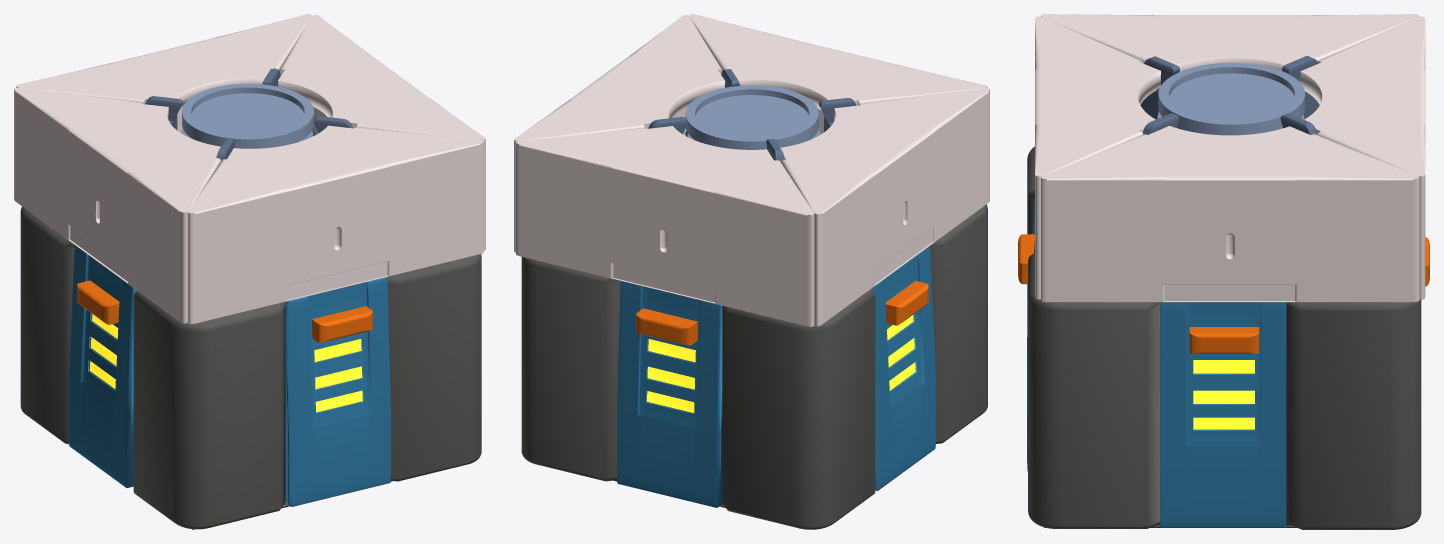
3 renders of one model, left to right at view 1: azimuth 30°, elevation 25°; view 2: azimuth 150°, elevation 25°; view 3: azimuth 270°, elevation 25°, orthographic. The views are drawn at different scales.
Parts seen in each view (by area): view 1: Lootbox_bottom, Cap3, Cap4, Lootbox_panel, Lootbox_panel.001, Cap1, Cap2, Cylinder.001, Lever1, Lever4; view 2: Lootbox_bottom, Cap2, Cap4, Lootbox_panel.003, Cap1, Cap3, Lootbox_panel.001, Cylinder.001, Lever3, Lever4; view 3: Lootbox_bottom, Cap1, Lootbox_panel.002, Cap2, Cap3, Cap4, Cylinder.001, Lever2, Cube.009, Cube.012, Lever1.
Boxes of the visible parts, x1,y1,x2,y2 form: Lootbox_bottom: (20, 206, 481, 529); Cap3: (188, 125, 483, 324); Cap4: (14, 87, 221, 323); Lootbox_panel: (285, 277, 390, 506); Lootbox_panel.001: (69, 245, 136, 487); Cap1: (278, 14, 485, 250); Cap2: (16, 14, 311, 132); Cylinder.001: (182, 83, 313, 148); Lever1: (312, 306, 372, 342); Lever4: (77, 280, 119, 324); Lootbox_bottom: (521, 204, 987, 529); Cap2: (516, 126, 814, 326); Cap4: (780, 88, 989, 326); Lootbox_panel.003: (617, 281, 722, 507); Cap1: (514, 14, 725, 252); Cap3: (689, 14, 987, 134); Lootbox_panel.001: (872, 246, 935, 490); Cylinder.001: (685, 85, 818, 149); Lever3: (636, 308, 697, 345); Lever4: (885, 281, 928, 325); Lootbox_bottom: (1027, 146, 1421, 529); Cap1: (1041, 125, 1419, 302); Lootbox_panel.002: (1160, 302, 1286, 527); Cap2: (1300, 16, 1425, 299); Cap3: (1035, 16, 1160, 299); Cap4: (1041, 14, 1419, 71); Cylinder.001: (1158, 62, 1305, 135); Lever2: (1189, 327, 1259, 353); Cube.009: (1140, 56, 1179, 119); Cube.012: (1282, 56, 1319, 119); Lever1: (1018, 234, 1034, 284).
Size of what is drawn, in the model's own units: 2.28 by 2.22 by 2.29.
